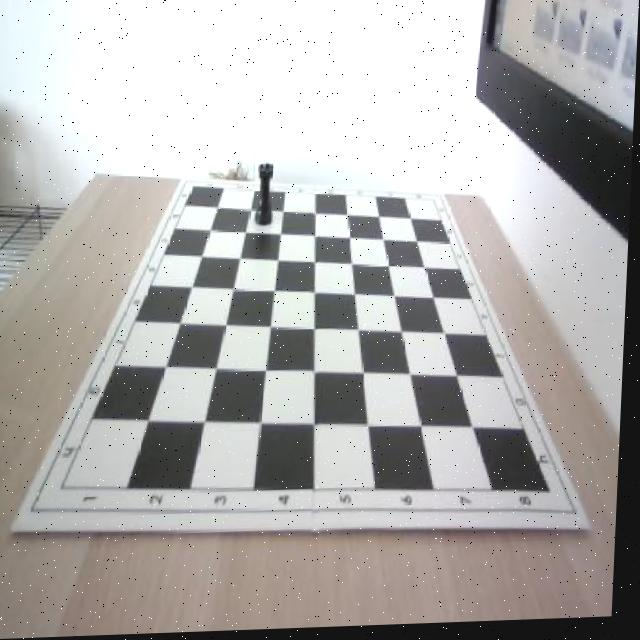black-queen: (256, 162, 279, 228)
